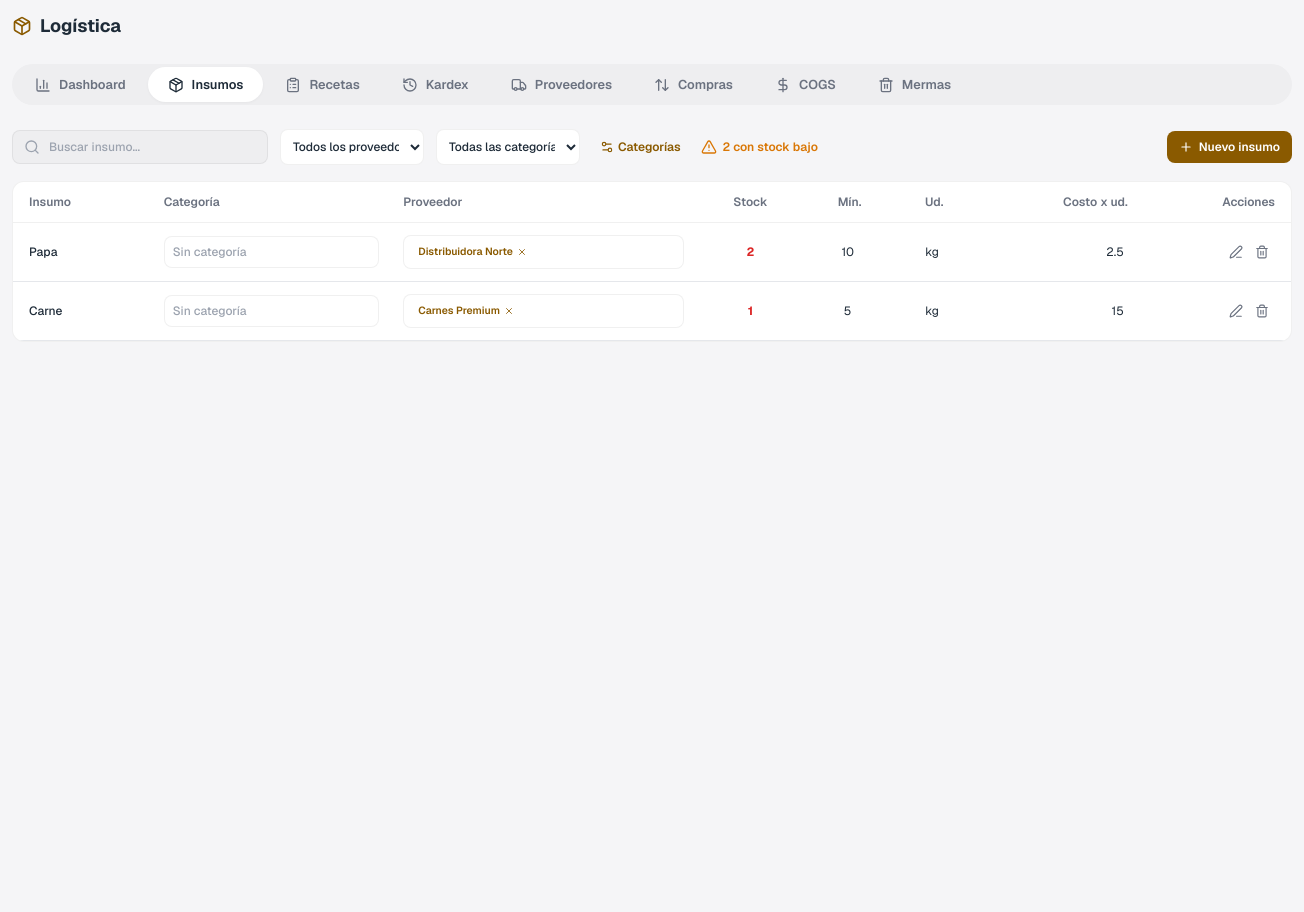
Test: PurchaseOrdersSection › creates a new ingredient from the order form and adds it to the cart
This screenshot has width=1304, height=912.
Click the button "Compras" at (693, 85), box [634, 67, 753, 102]
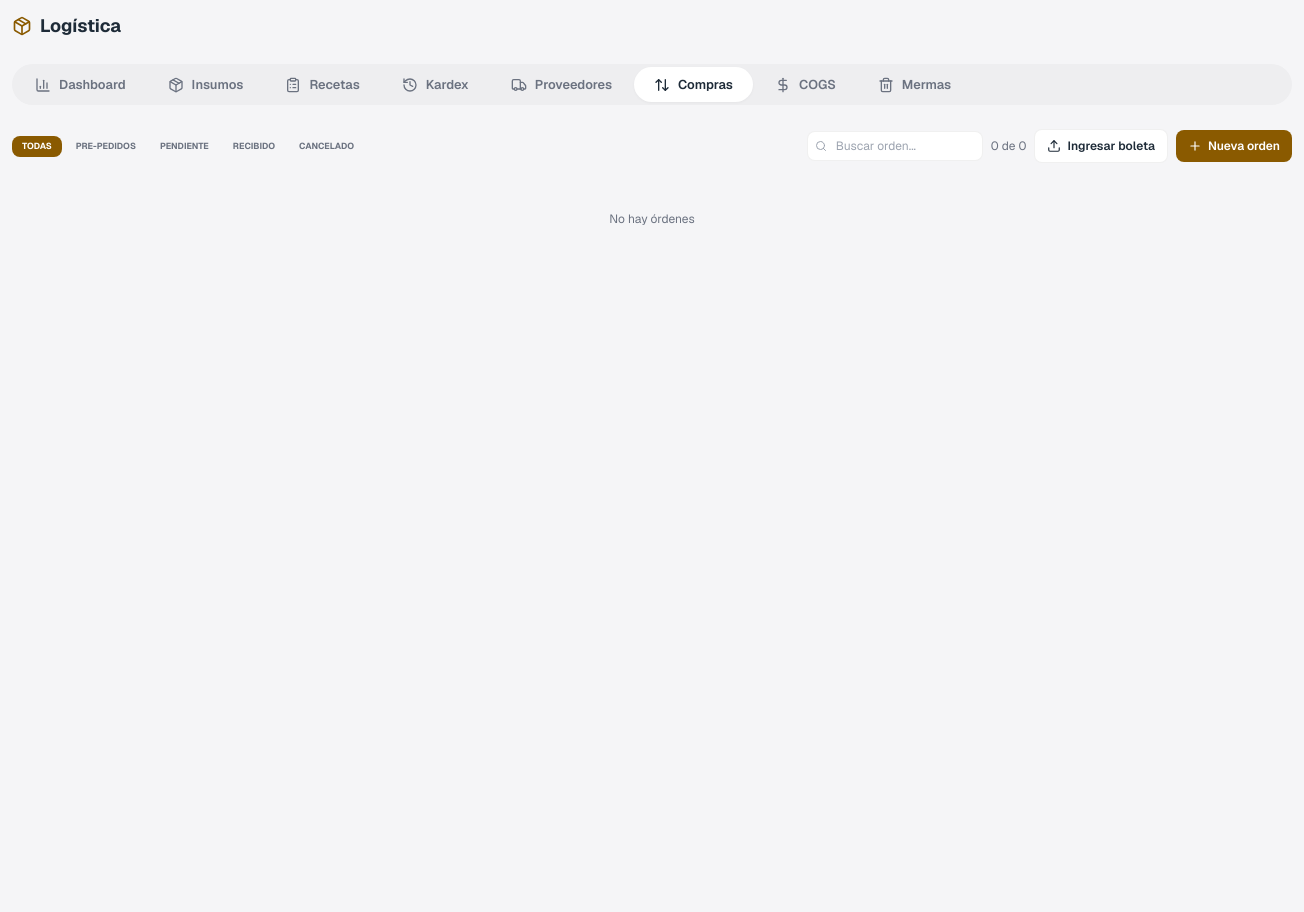
expect the button "Nueva orden" is shown: met
Click the button "Nueva orden" at (1234, 146), box [1176, 130, 1292, 162]
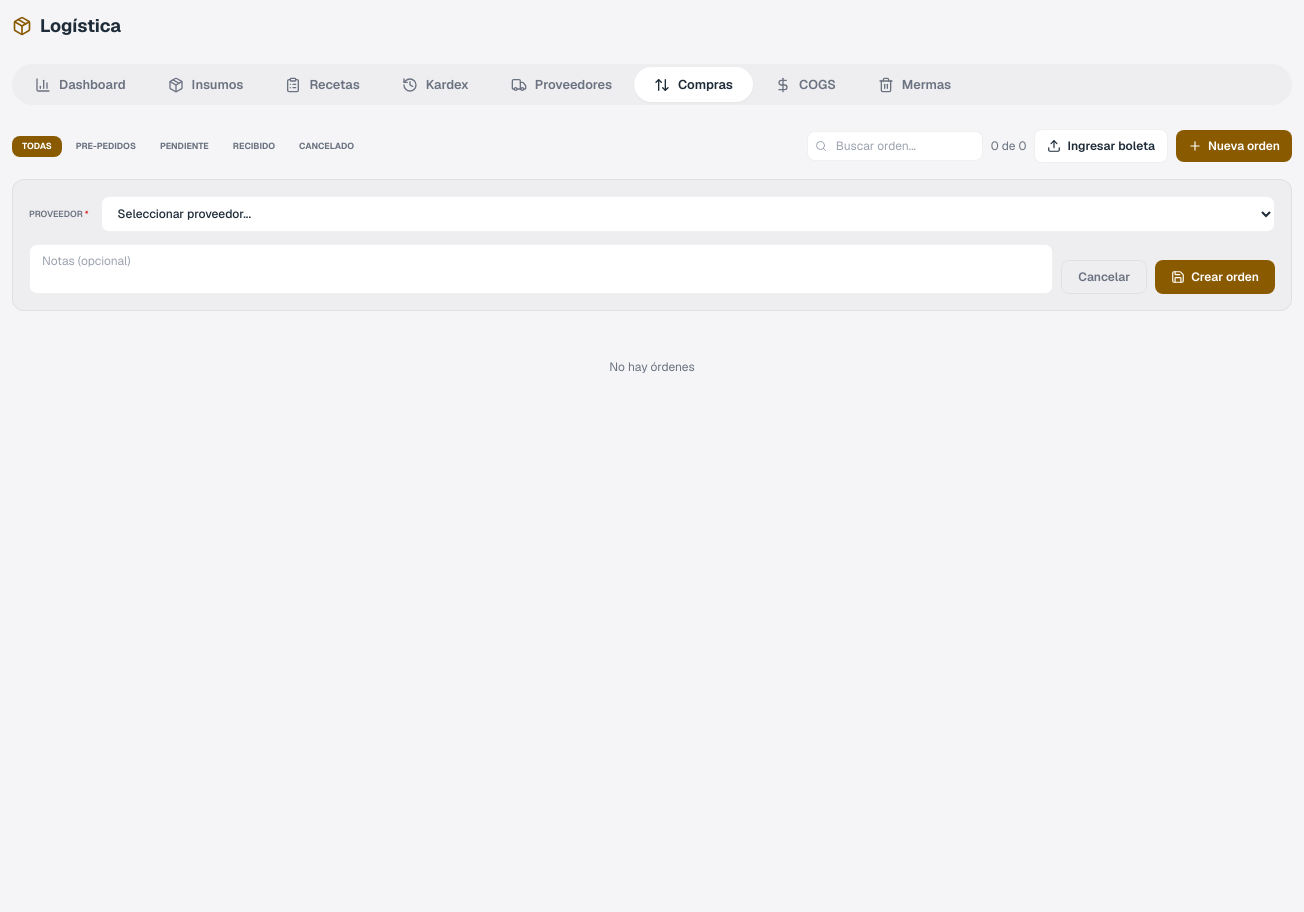
expect the dropdown is shown: met
Select "Distribuidora Norte" in the dropdown at (688, 214), box [101, 196, 1275, 232]
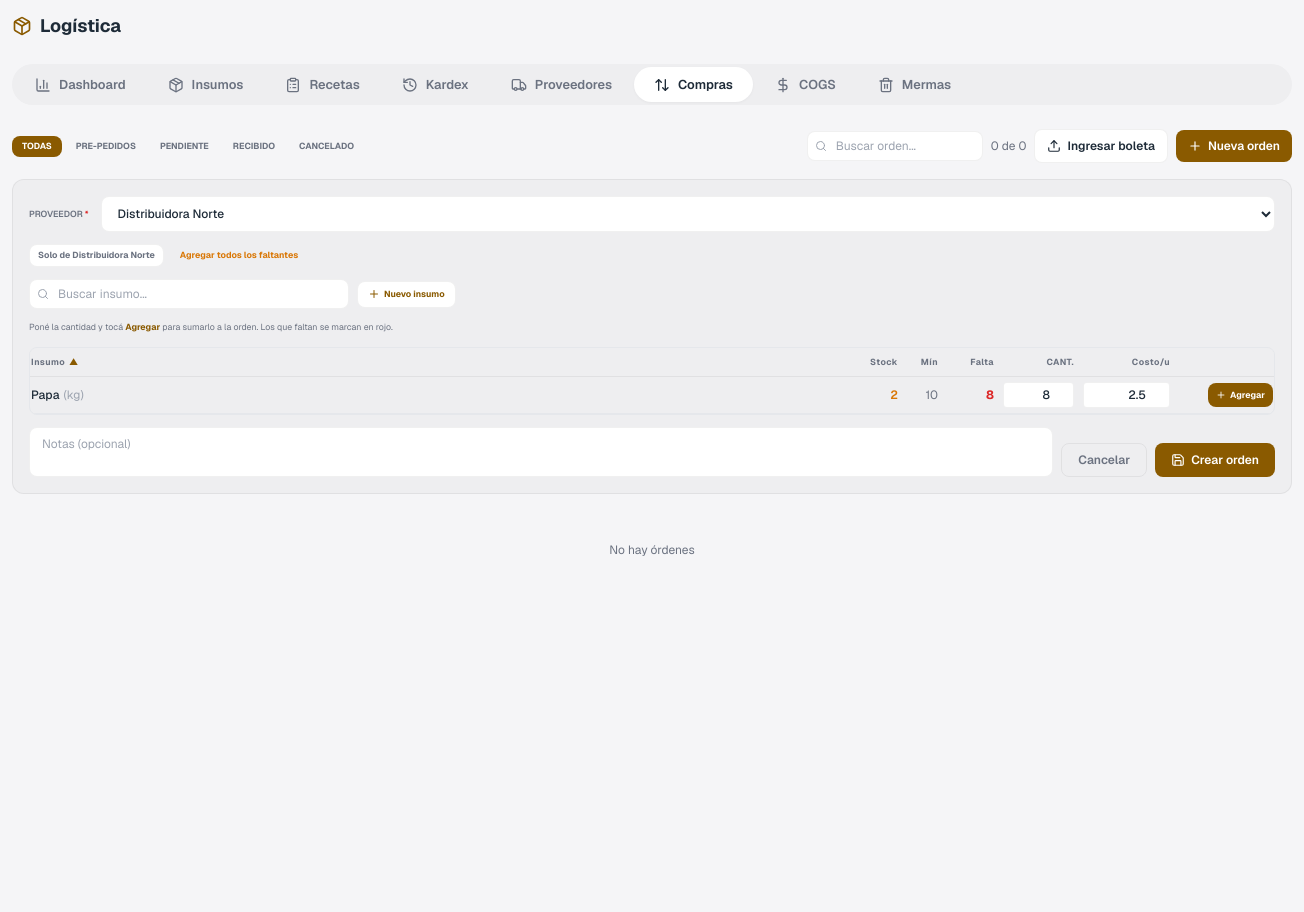
expect the text "Papa" is shown: met, box [31, 387, 60, 403]
# Abrir panel rápido y crear
Click the button "Nuevo insumo" at (406, 294), box [357, 281, 456, 308]
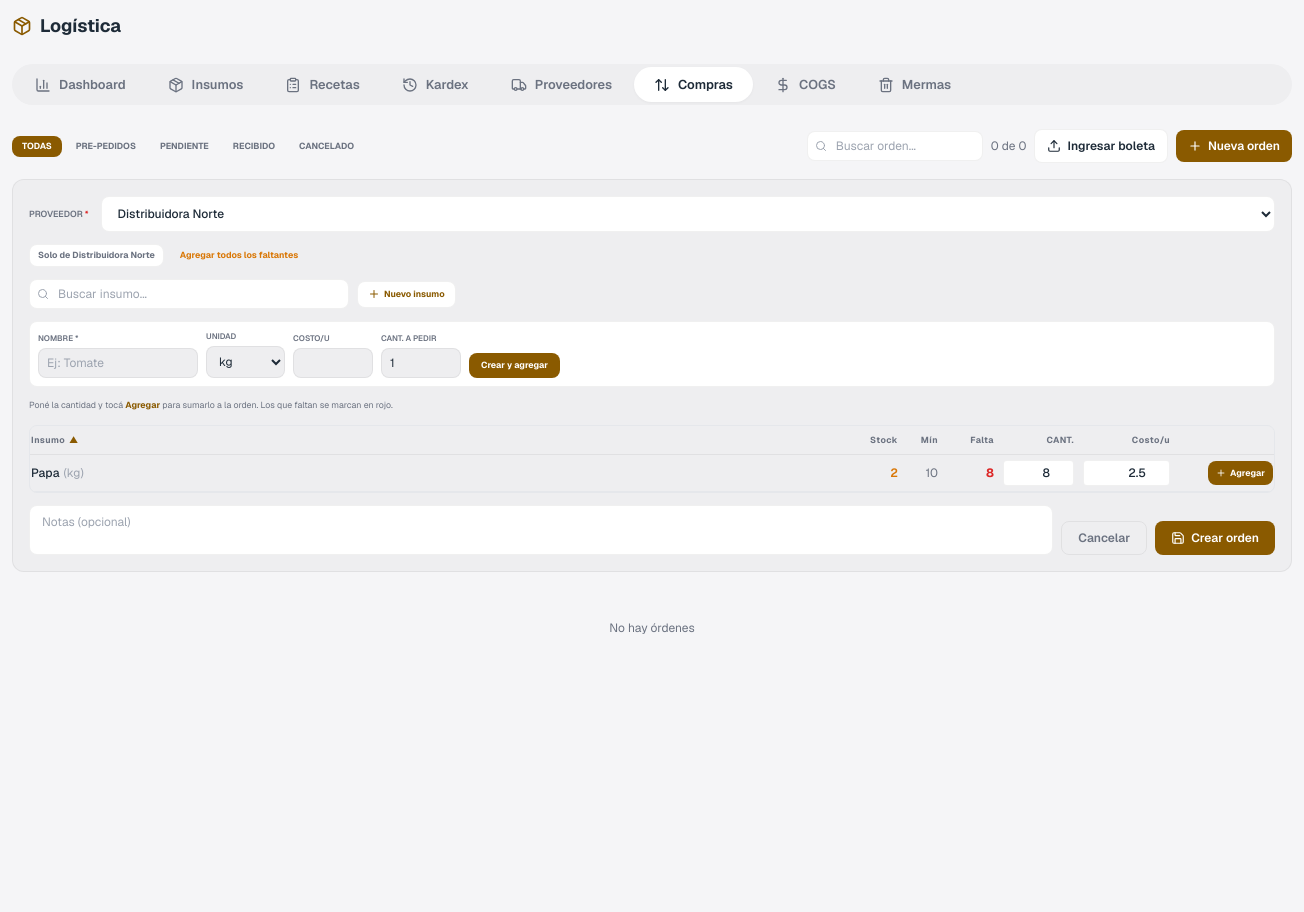
expect the field with placeholder "Ej: Tomate" is shown: met
Type "Tomate" into the field with placeholder "Ej: Tomate" at (118, 363), box [38, 348, 198, 378]
Replace the text in the number field with placeholder "Cantidad" below "Cant. a pedir" with "5" at (421, 363), box [381, 348, 461, 378]
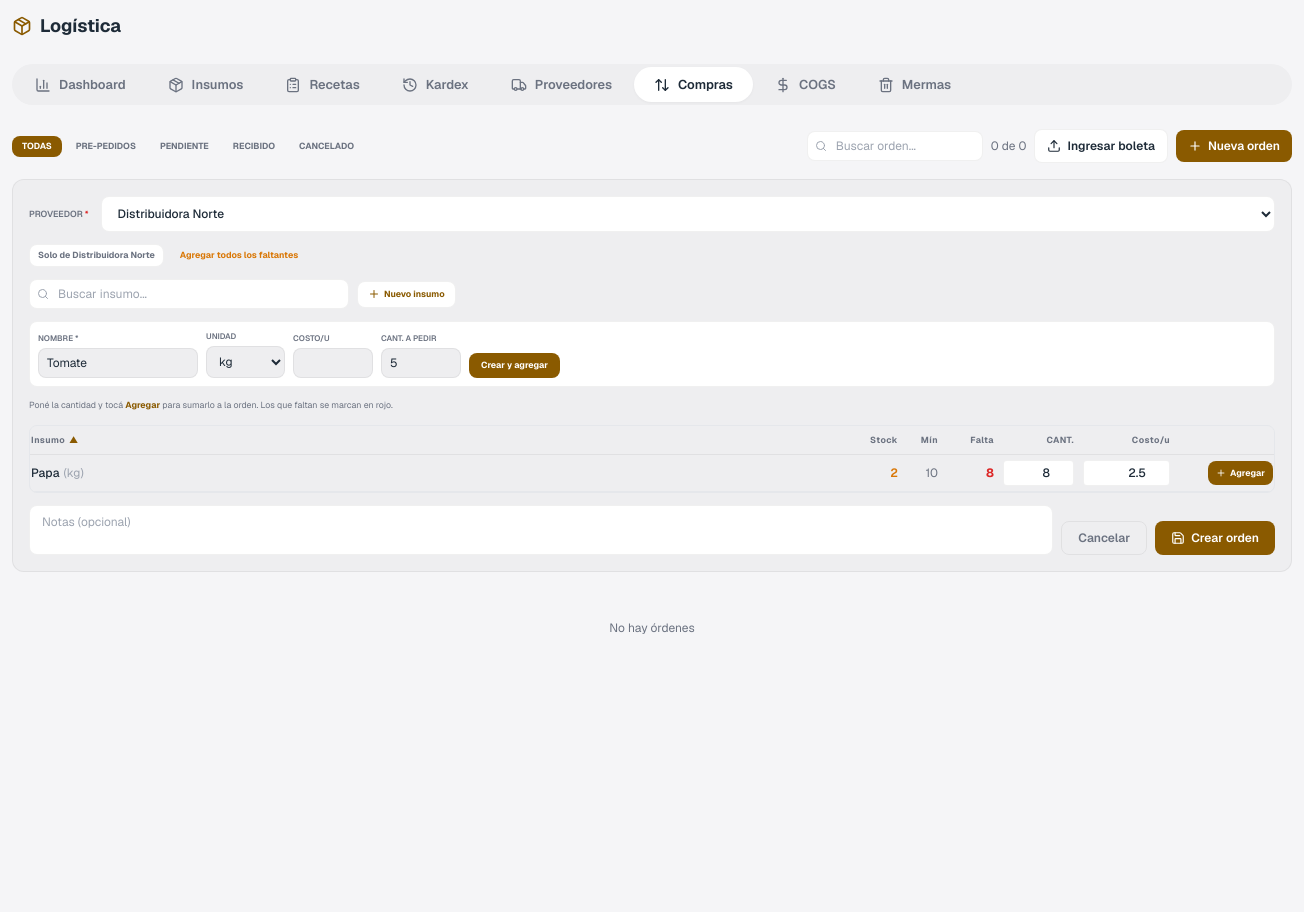
Click the button "Crear y agregar" at (515, 366), box [469, 353, 560, 378]
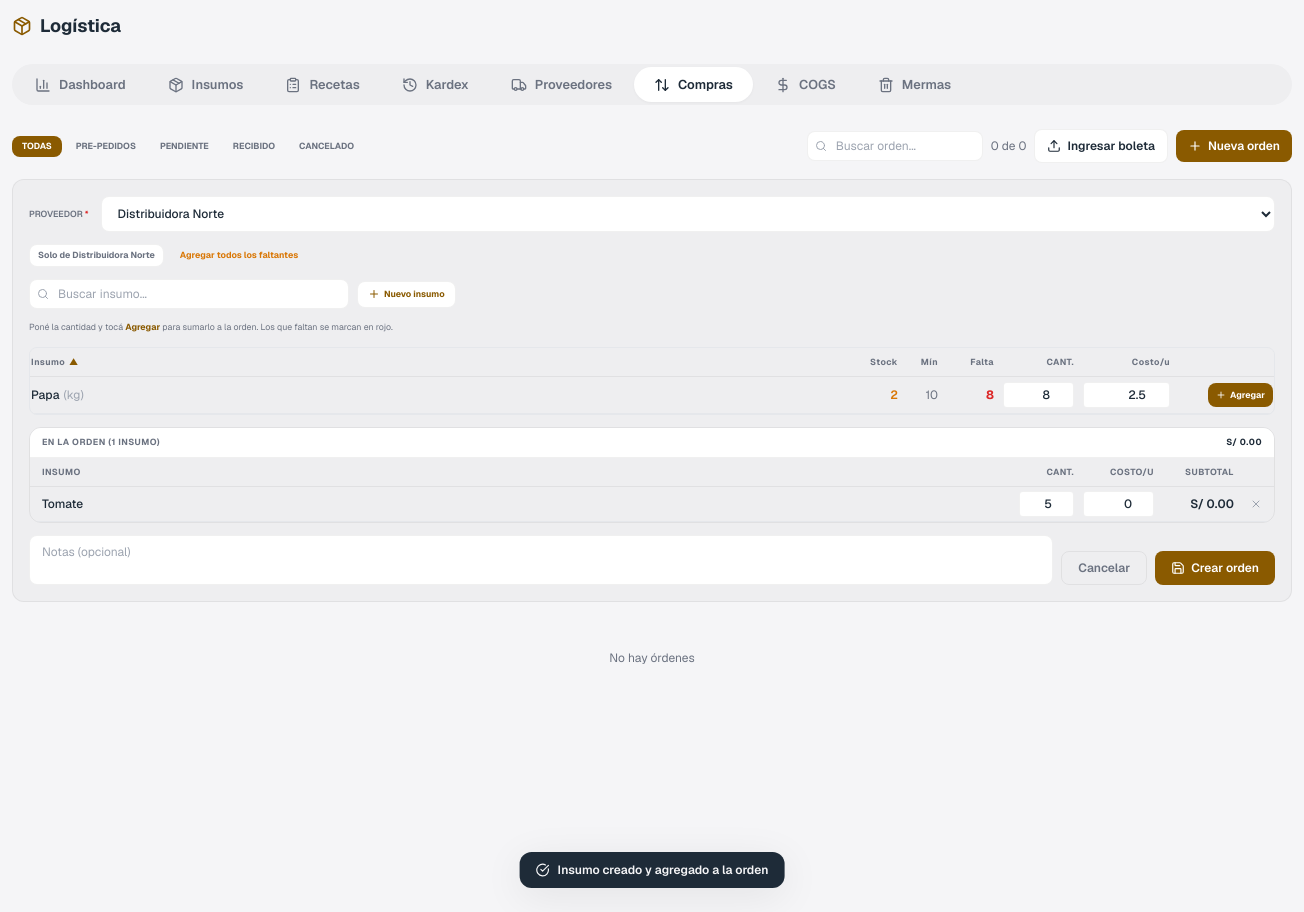
expect the text "En la orden (1 insumo)" is shown: met, box [42, 436, 160, 449]
expect the text "Tomate" is shown: met, box [30, 486, 1018, 521]
